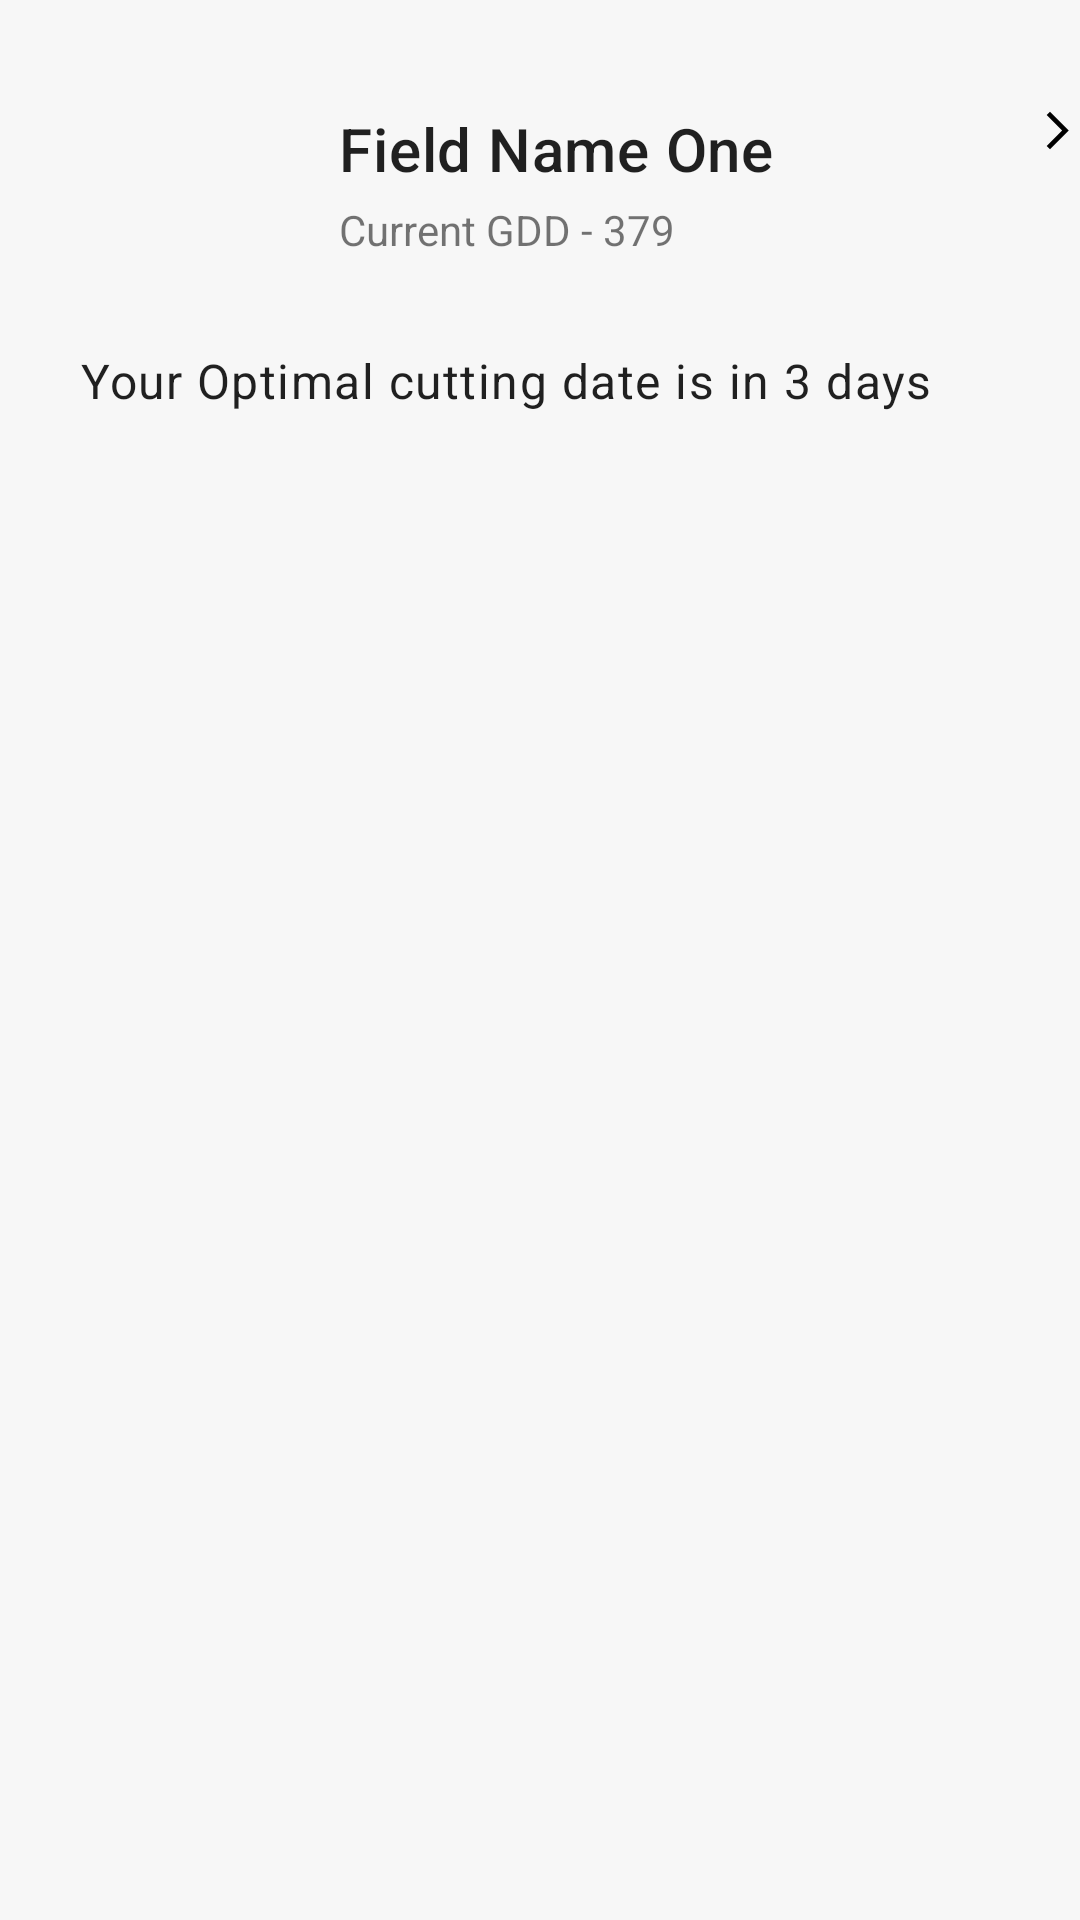

Screen size 1080 x 1920. Icon name, then its box in pixels as rect(x1, y1, x2, y2):
right arrow: rect(1047, 112, 1069, 149)
